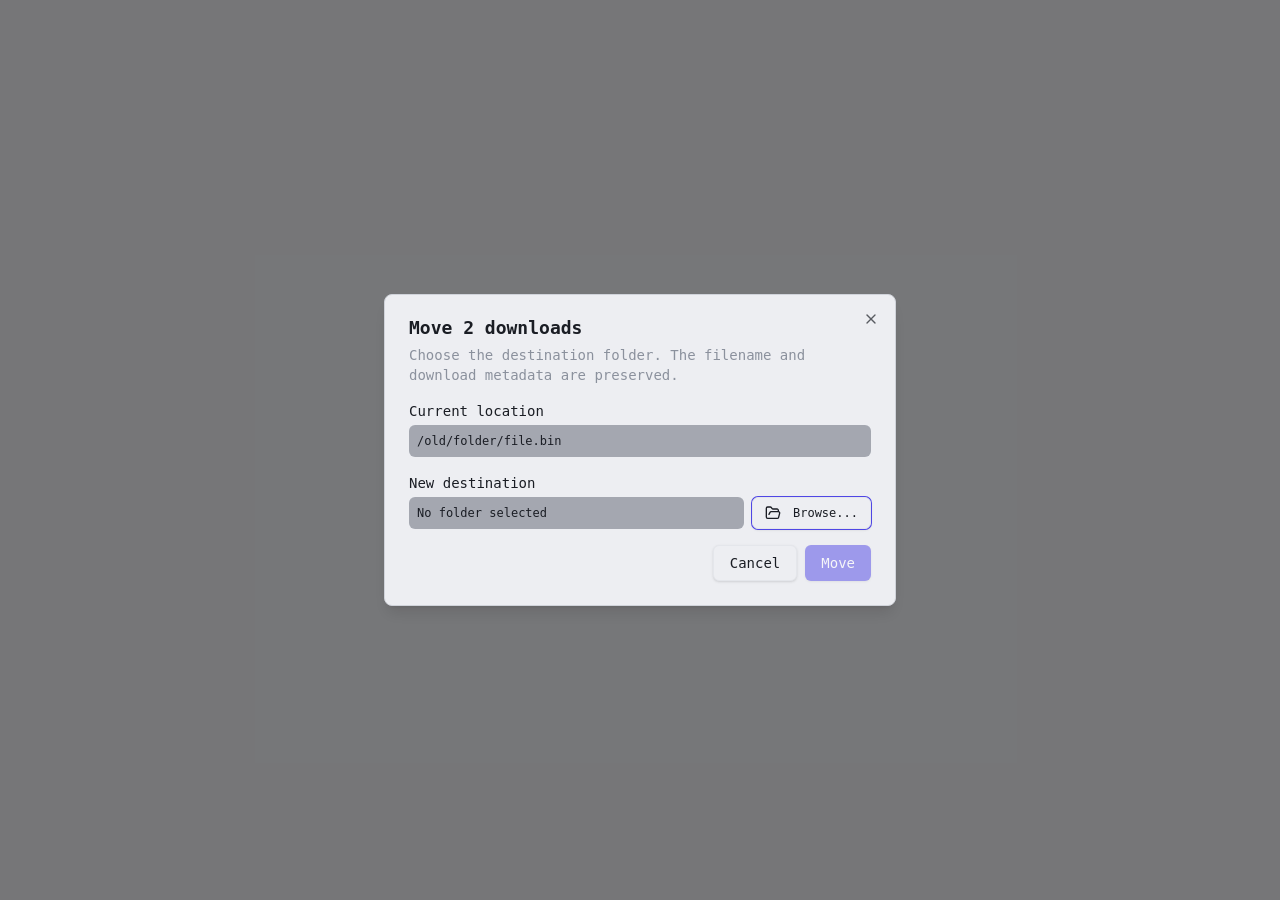
Test: MoveDialog › displays the selected path and enables confirm after picking a folder
The width and height of the screenshot is (1280, 900).
Click the button "Browse...": (812, 513) top-left (752, 497), bottom-right (871, 529)
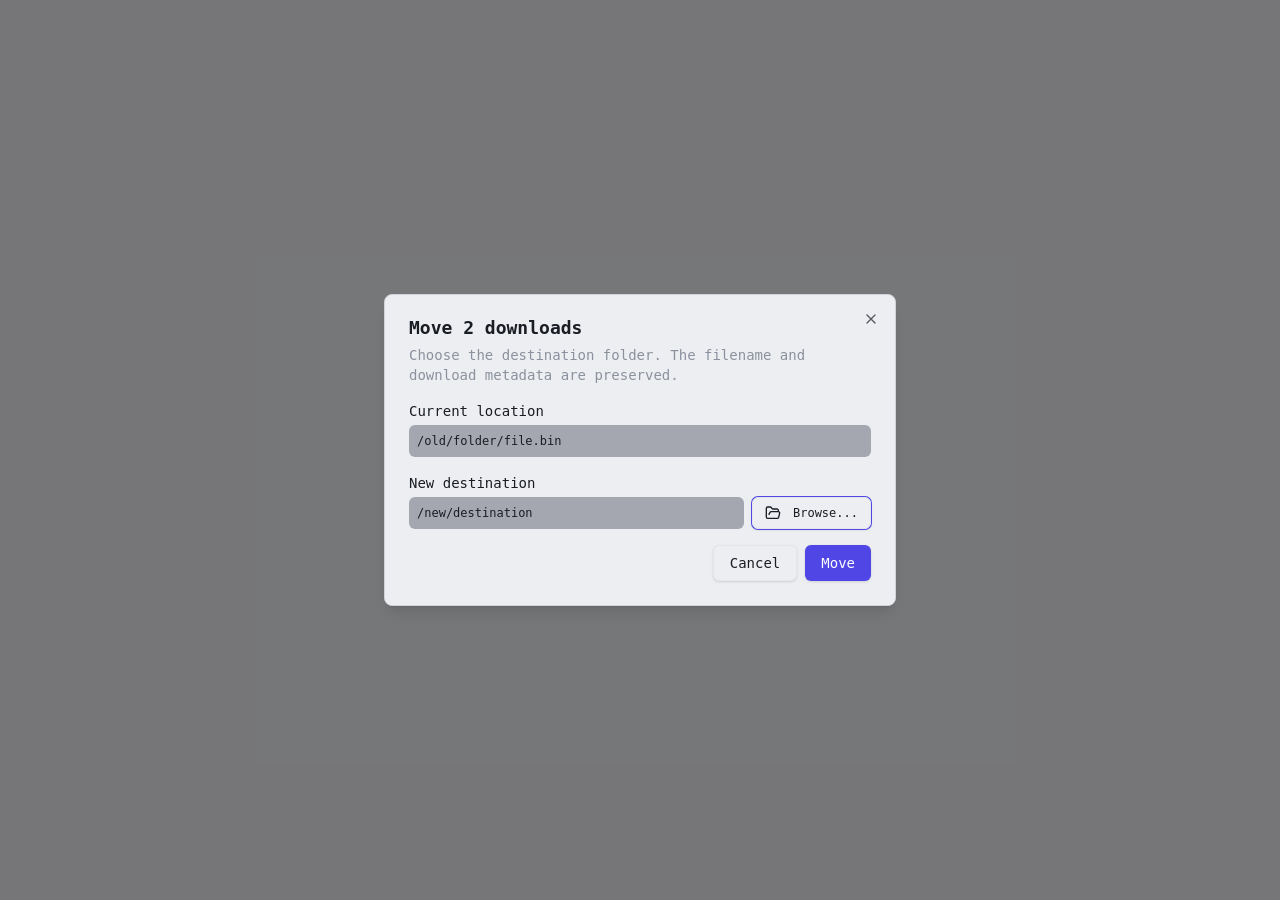
Now the text with test id "move-destination-path" reads "/new/destination", box top-left (417, 506), bottom-right (533, 520)
Now the button "Move" is enabled, box top-left (805, 545), bottom-right (871, 581)
